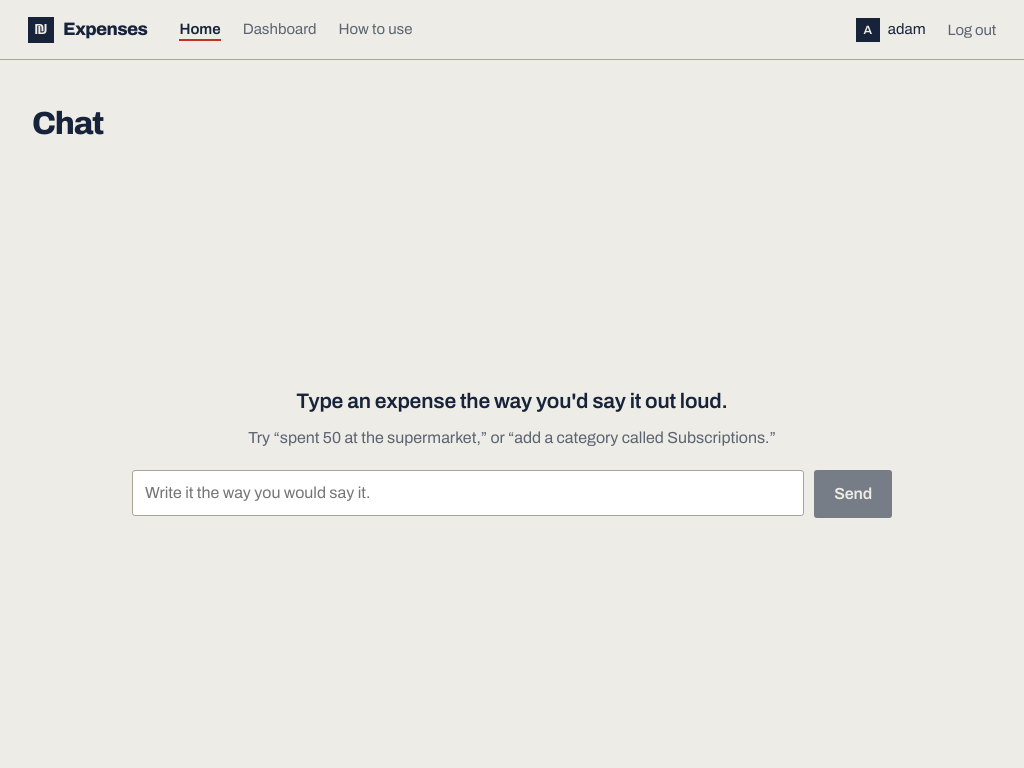
Test case: HomePage chat › asks for the amount and shows no confirm button when it is missing
Type "spent something at the supermarket" into the field named "message" at (468, 493), box [132,470,804,516]
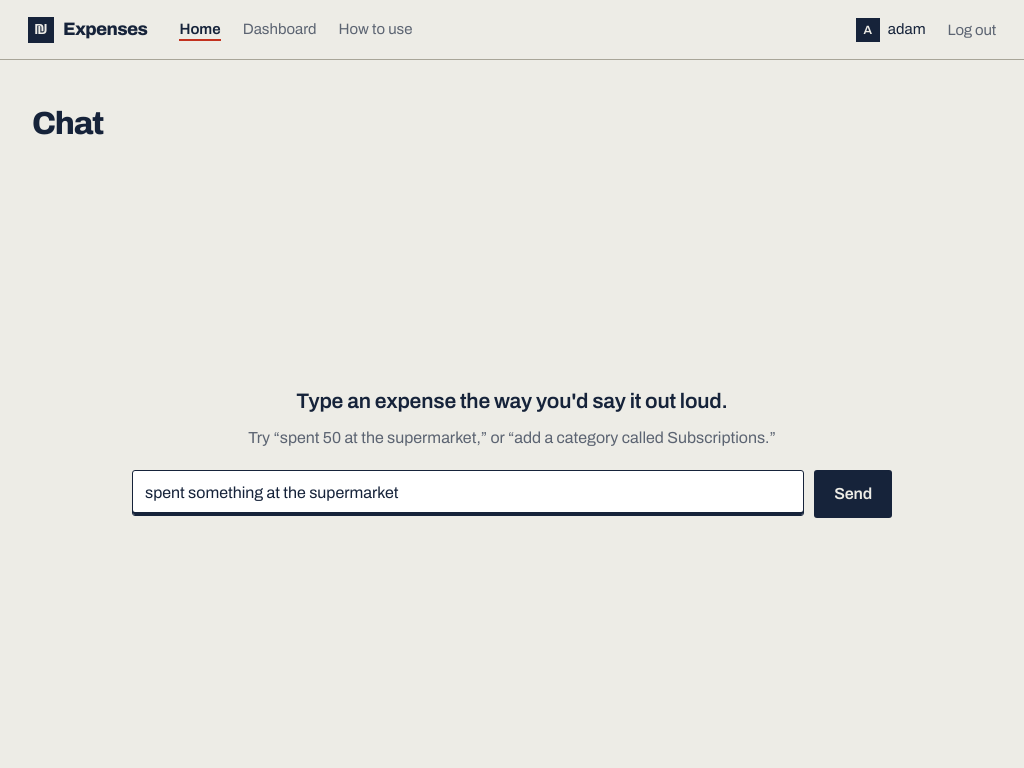
Click the button "Send" at (853, 494), box [814,470,892,518]
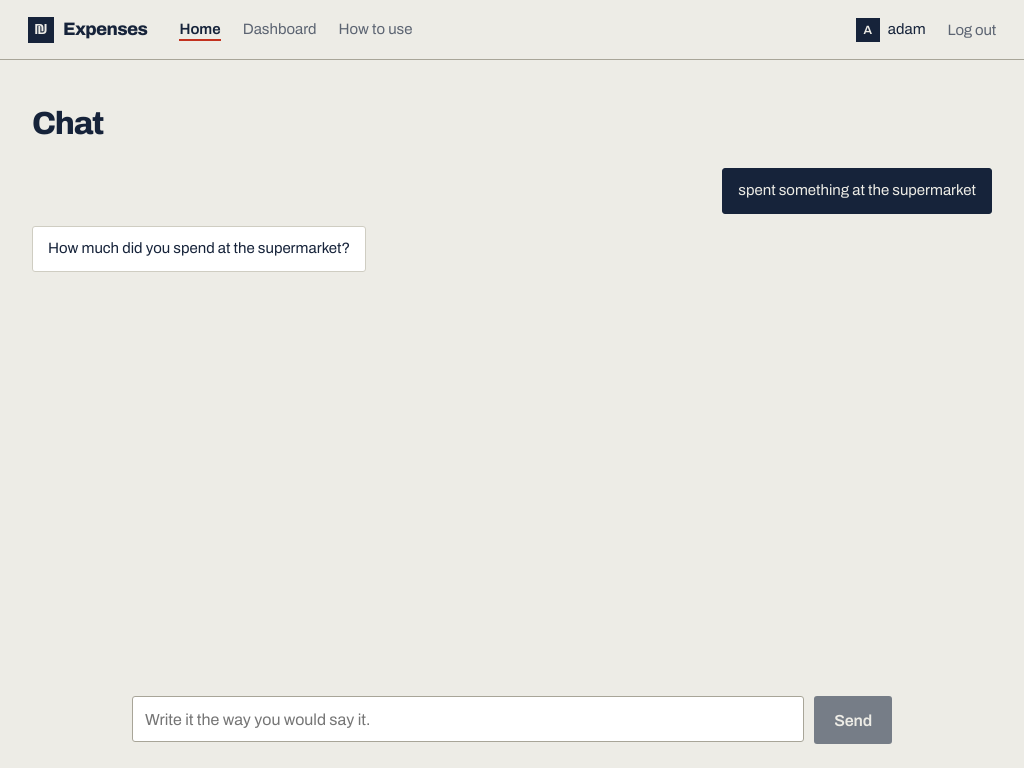
Result: the list item "How much did you spend at the supermarket?" is shown at [32,226,366,272]
